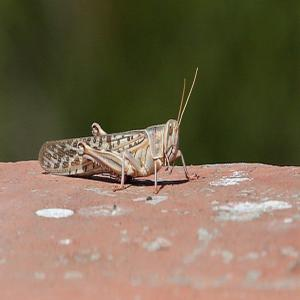locust: (39, 77, 206, 189)
